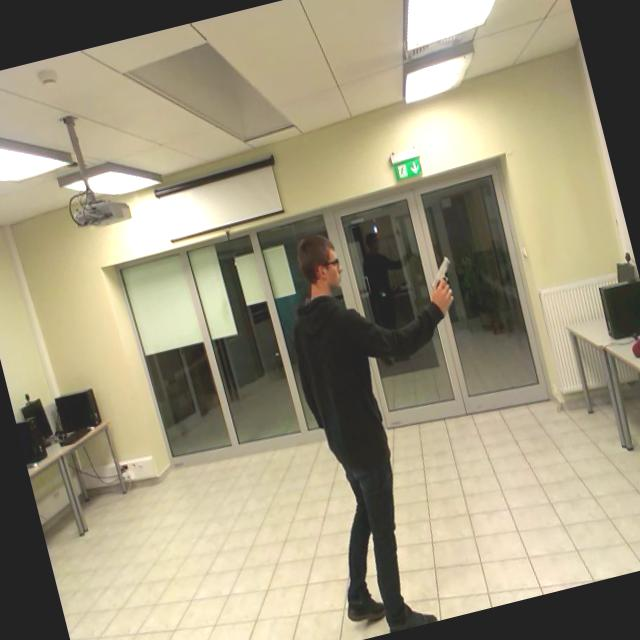handgun: (420, 245, 470, 328)
